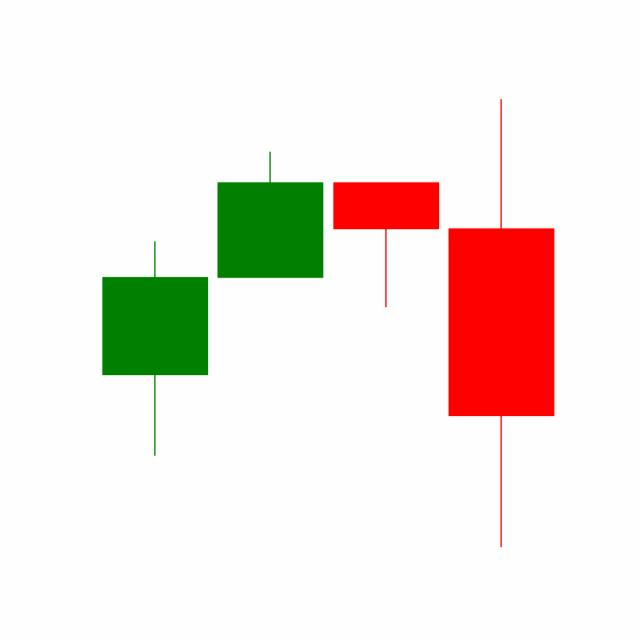Hammer: (328, 180, 444, 308)
